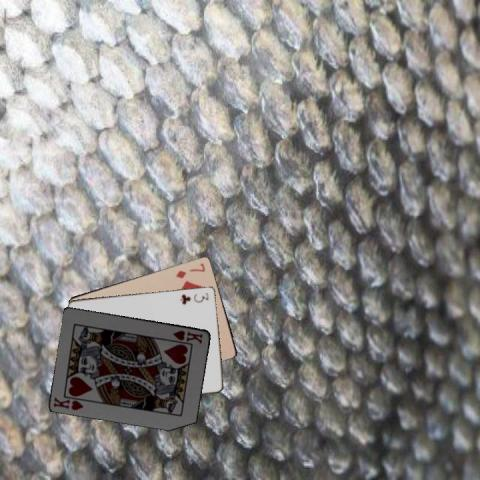3c: (177, 290, 210, 306)
7d: (172, 260, 206, 279)
Kh: (170, 327, 205, 345), (51, 394, 85, 411)
